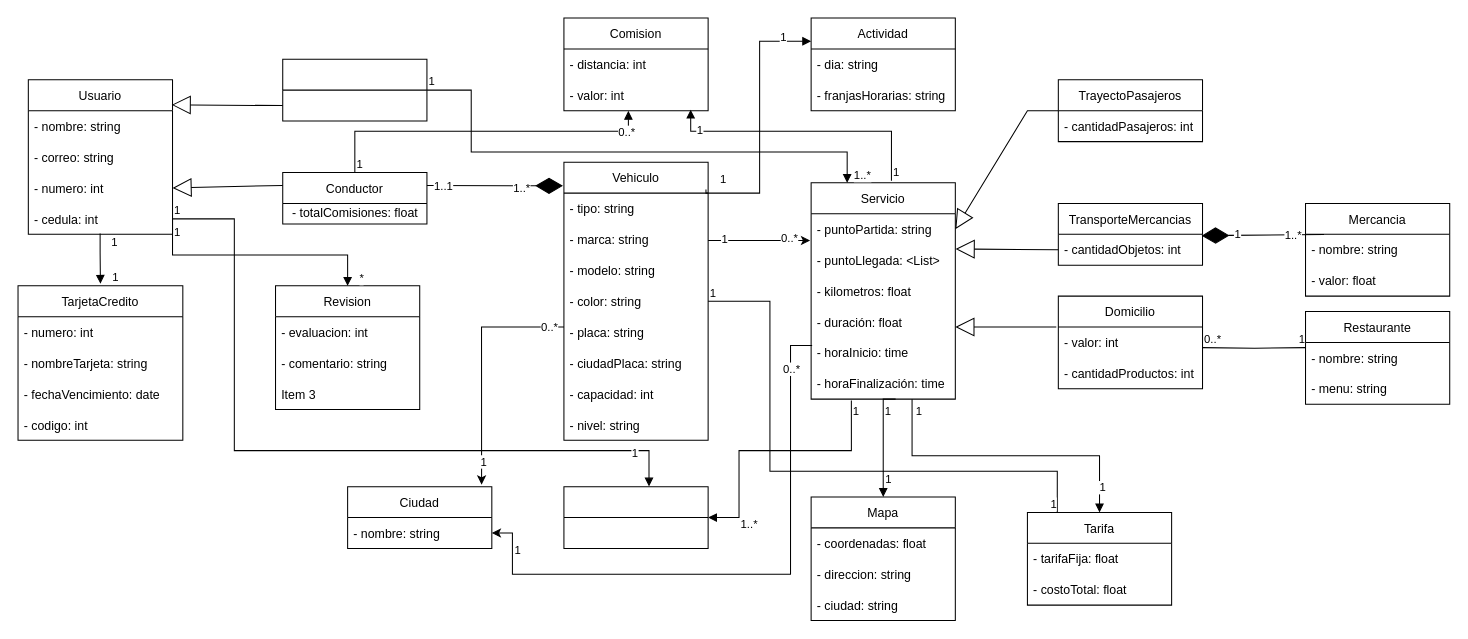
The diagram is 1468 pixels wide and 639 high, and some of its shapes have lost their labels. Here are the shapes that lost their labels. From the top down, the centre of each, then its label:
At [354,89]: "Cliente".
At [635,517]: "Historial".
